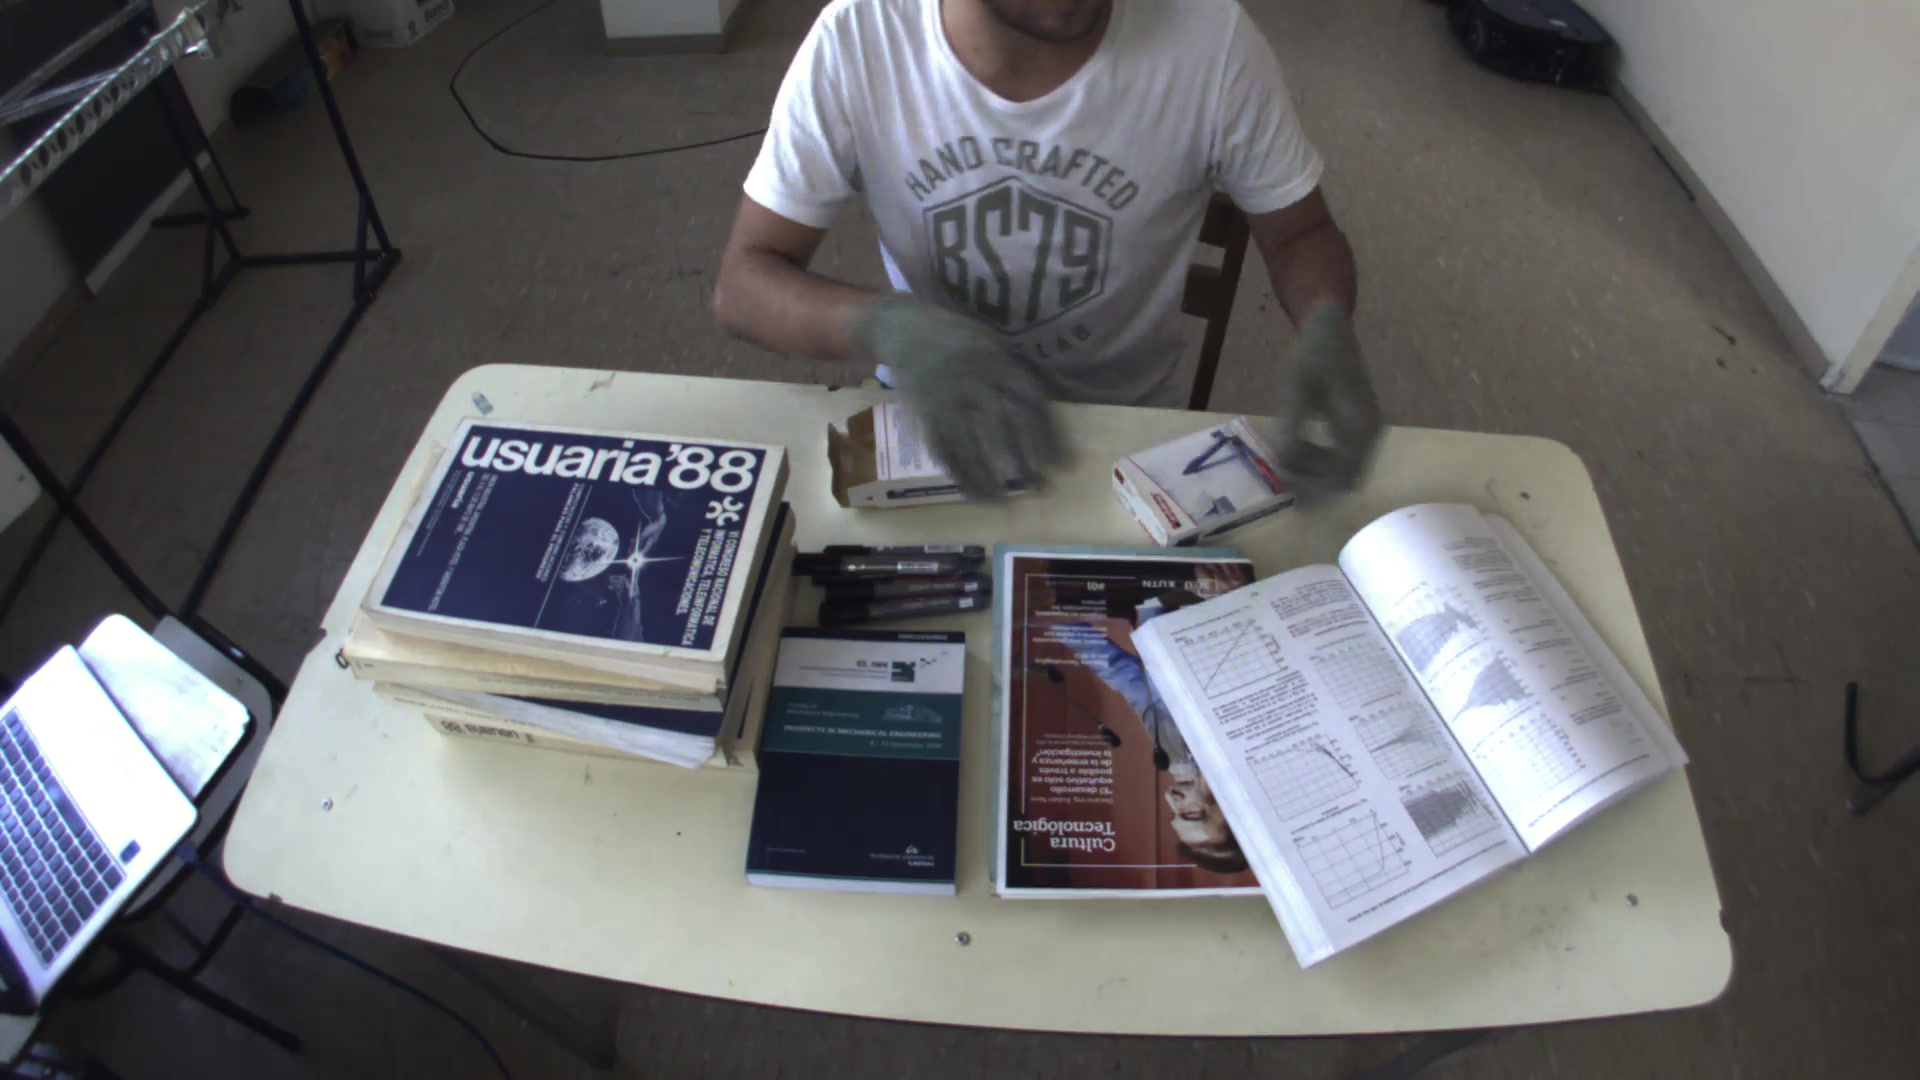hand: (860, 298, 1068, 491), (1265, 295, 1394, 481)
